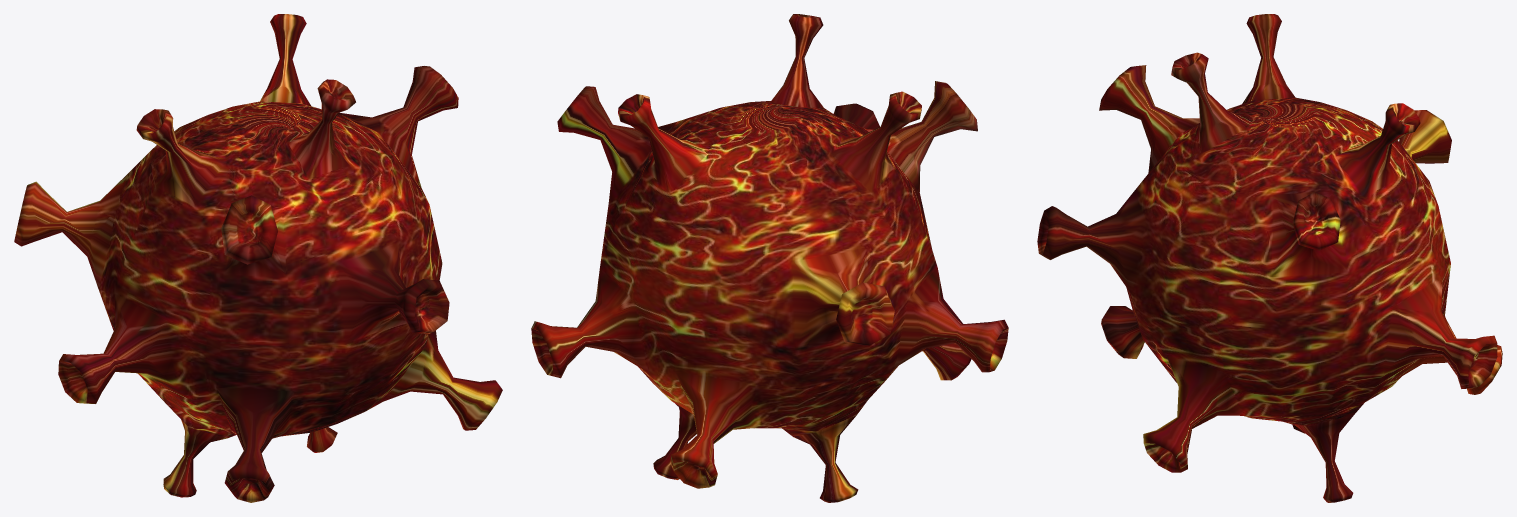
File: virus2.obj
The picture shows the model from 3 angles, left to right: view 1: azimuth 30°, elevation 25°; view 2: azimuth 150°, elevation 25°; view 3: azimuth 270°, elevation 25°; orthographic projection. The views are drawn at different scales.
Bounding box in the file's own units: 46.95 × 46.73 × 46.85.
Materials: 1 (1 with a texture image).
